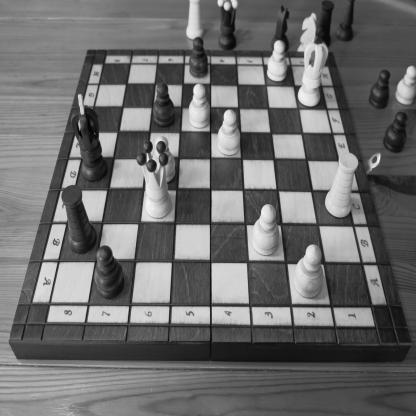black-bishop: (336, 0, 356, 39)
black-king: (70, 93, 108, 183)
black-knight: (271, 4, 291, 50)
black-pawn: (94, 244, 125, 300), (382, 110, 408, 154), (152, 82, 175, 127), (369, 68, 391, 110), (188, 36, 209, 78)
black-queen: (217, 0, 238, 49)
black-rook: (60, 184, 96, 254), (316, 0, 336, 46)
white-king: (297, 27, 329, 108)
white-knight: (297, 12, 319, 52)
white-pawn: (293, 244, 324, 298), (252, 203, 280, 256), (151, 136, 176, 184), (217, 109, 241, 156), (189, 83, 211, 128), (267, 40, 288, 82), (395, 63, 415, 106)
white-queen: (136, 140, 172, 219)
white-rook: (324, 152, 359, 219), (185, 0, 205, 40)
